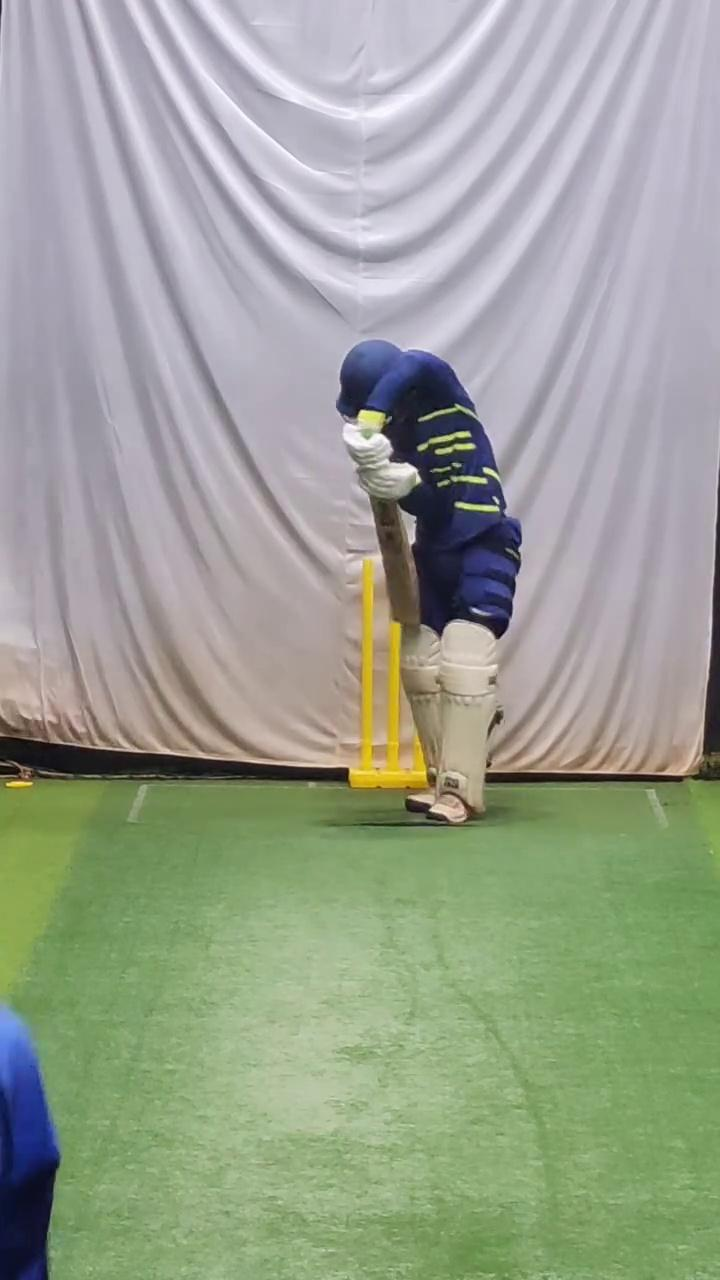bat: (368, 489, 423, 635)
